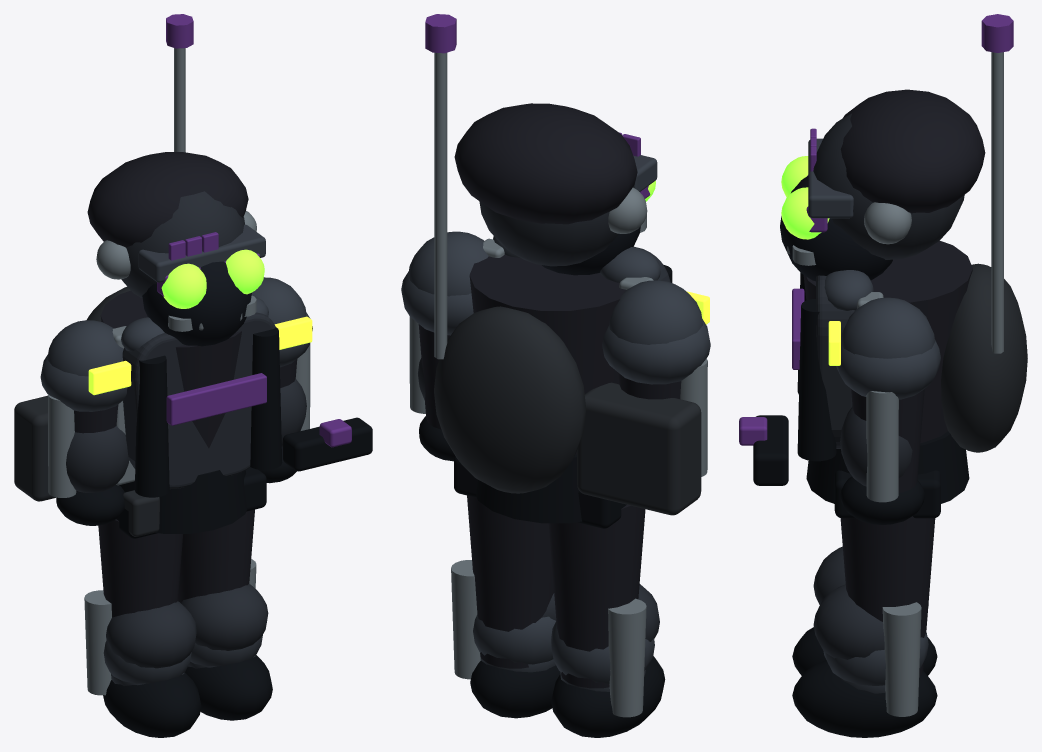
Rendered from recon_l03.glb.
The picture shows the model from 3 angles, left to right: view 1: azimuth 30°, elevation 25°; view 2: azimuth 150°, elevation 25°; view 3: azimuth 270°, elevation 25°; orthographic projection. The views are drawn at different scales.
Visible parts, largest first — view 1: trouser (×2), hood, shaped_knee_guard (×2), rounded_boot (×2), contoured_vest, vest_tether (×2), enclosed_mask, shoulder_joint (×2), curved_forearm_guard (×2), waist_flex, body, rounded_helmet (+21 smaller); view 2: shaped_field_pack, trouser (×2), hood, map_satchel, body, rounded_boot (×2), shoulder_joint (×2), shin_frame (×2), shoulder_plate (×2), knee_plate (×2), rounded_helmet, signal_mast (+11 smaller); view 3: hood, shaped_field_pack, trouser, rounded_boot (×2), body, rounded_helmet, shaped_knee_guard (×2), shoulder_joint, vest_tether, shin_frame, signal_mast, shoulder_plate (+19 smaller).
Boxes of the visible parts, box(x1,y1,x2,y2) form: trouser (×2): box(98, 509, 254, 617); hood: box(87, 152, 248, 247); shaped_knee_guard (×2): box(106, 584, 268, 668); rounded_boot (×2): box(103, 655, 272, 737); contoured_vest: box(122, 312, 275, 489); vest_tether (×2): box(134, 327, 282, 497); enclosed_mask: box(142, 261, 251, 346); shoulder_joint (×2): box(47, 277, 306, 376); curved_forearm_guard (×2): box(66, 379, 306, 492); waist_flex: box(120, 470, 247, 533); body: box(100, 290, 241, 448); rounded_helmet: box(121, 191, 244, 298); shaped_field_pack: box(434, 306, 586, 493); trouser (×2): box(467, 495, 645, 688); hood: box(454, 103, 637, 224); map_satchel: box(577, 382, 701, 515); body: box(469, 254, 625, 454); rounded_boot (×2): box(470, 656, 665, 737); shoulder_joint (×2): box(409, 231, 702, 344); shin_frame (×2): box(451, 560, 646, 717); shoulder_plate (×2): box(401, 271, 710, 384); knee_plate (×2): box(473, 614, 654, 683); rounded_helmet: box(479, 185, 634, 266); signal_mast: box(434, 52, 447, 359); hood: box(840, 89, 985, 213); shaped_field_pack: box(941, 263, 1027, 452); trouser: box(840, 516, 935, 675); rounded_boot (×2): box(792, 627, 937, 737); body: box(803, 241, 972, 443); rounded_helmet: box(813, 113, 964, 259); shaped_knee_guard (×2): box(813, 546, 884, 659); shoulder_joint: box(841, 297, 935, 358); vest_tether: box(797, 299, 836, 461); shin_frame: box(882, 602, 921, 716); signal_mast: box(991, 52, 1003, 353); shoulder_plate: box(836, 340, 940, 399).
Size of the model in its own units: 0.9975 by 2.24 by 0.815.
